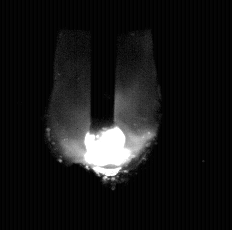arame: (91, 0, 116, 133)
poca: (48, 0, 158, 230)
